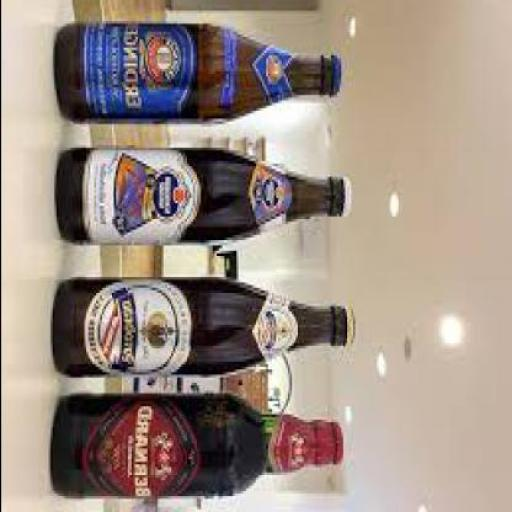glass: (51, 277, 344, 380), (56, 148, 342, 251), (51, 396, 334, 499), (54, 24, 332, 124)
metal: (330, 58, 344, 98), (346, 312, 356, 348), (338, 427, 346, 470), (344, 180, 351, 216)
